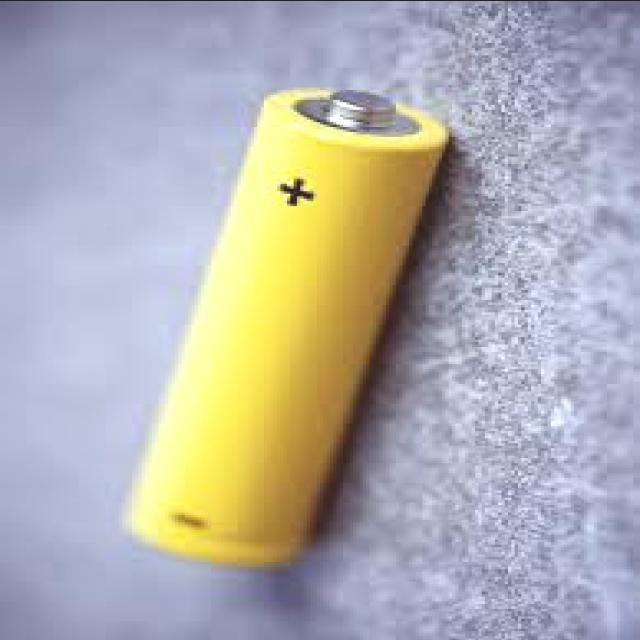AA: (119, 87, 452, 570)
